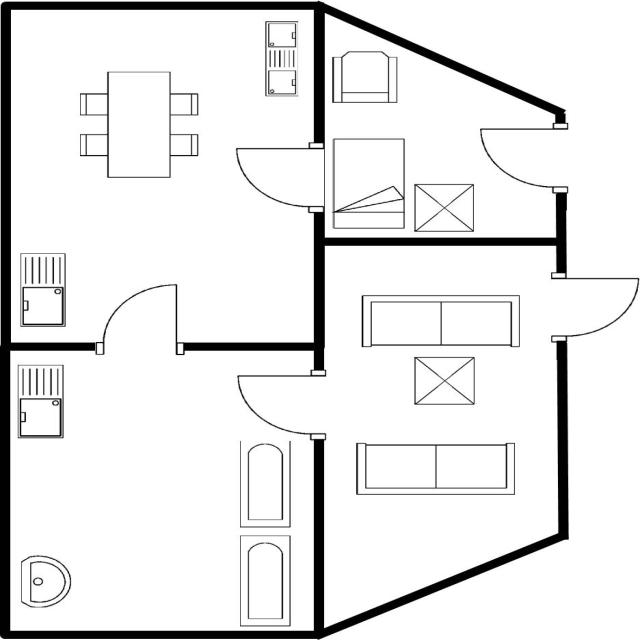armchair: (328, 45, 405, 108)
bed: (328, 134, 410, 231)
coffee_table: (405, 353, 480, 410), (410, 178, 478, 236)
dining_table: (72, 67, 202, 184)
large_sofa: (349, 436, 524, 500), (356, 288, 524, 350)
sink: (11, 359, 68, 442), (15, 249, 70, 331)
small_sink: (16, 551, 77, 612)
tub: (232, 434, 300, 530), (233, 529, 298, 629)
twin_sink: (258, 16, 303, 100)
